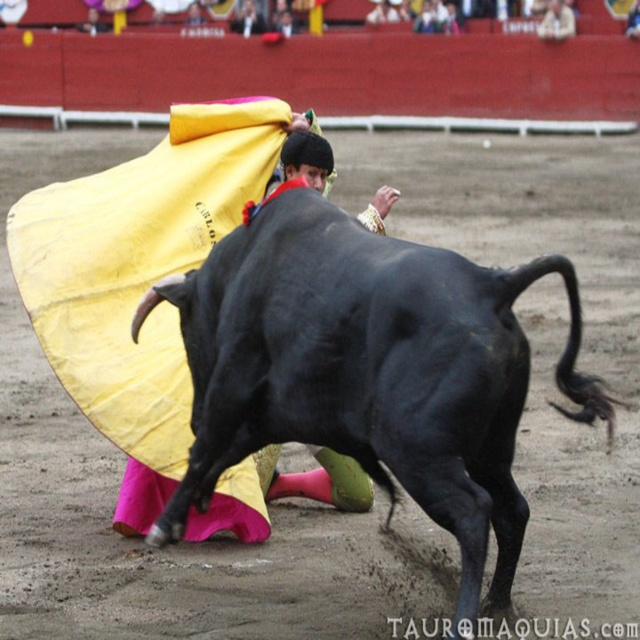Bull: (128, 190, 622, 635)
